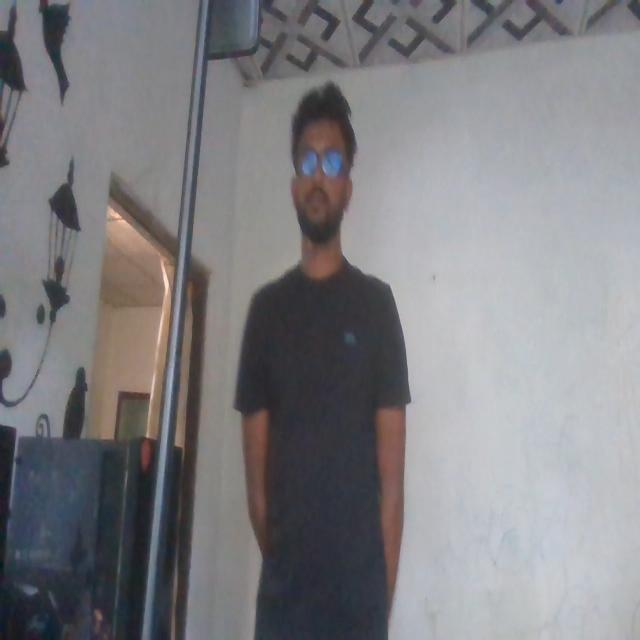Person: (239, 90, 414, 640)
